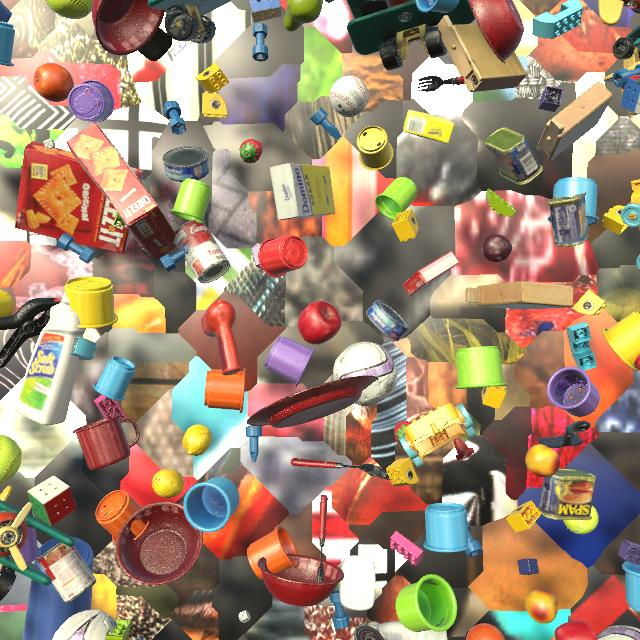ycb_003_cracker_box: (66, 123, 177, 260), (15, 141, 144, 254)
ycb_004_sugar_box: (270, 163, 336, 220), (403, 109, 455, 143)
ycb_005_tomato_soup_can: (36, 542, 96, 603), (174, 219, 230, 283), (350, 623, 387, 640)
ycb_007_tuna_fish_can: (366, 300, 409, 341), (162, 146, 210, 182)
ycb_009_gelatin_box: (403, 251, 460, 296)
ycb_010_potted_meat_can: (485, 127, 543, 185), (537, 469, 596, 520), (547, 192, 589, 247)
ycb_012_strawberry: (239, 139, 263, 163), (394, 421, 412, 445)
ycb_013_apple: (298, 301, 341, 345), (554, 621, 598, 640)
ycb_014_lemon: (152, 469, 184, 498), (183, 424, 212, 456)
ycb_015_peach: (525, 444, 560, 478), (525, 589, 558, 624)
ycb_016_pear: (283, 0, 323, 32)
ycb_017_orange: (33, 63, 74, 102), (466, 623, 505, 640)
ycb_018_plum: (482, 234, 512, 262)
